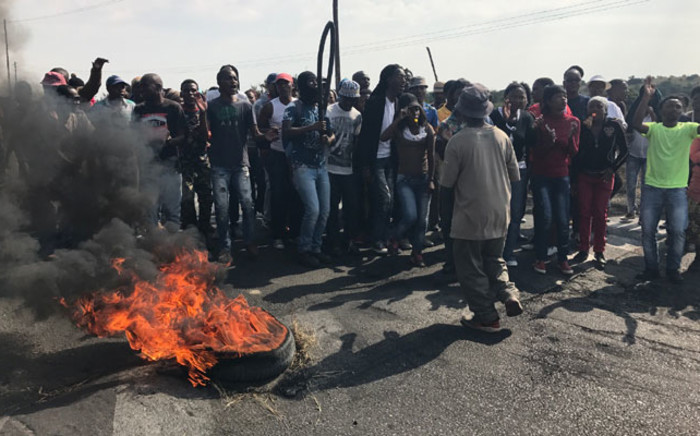fire: (127, 289, 255, 356)
smoke: (8, 117, 149, 270)
